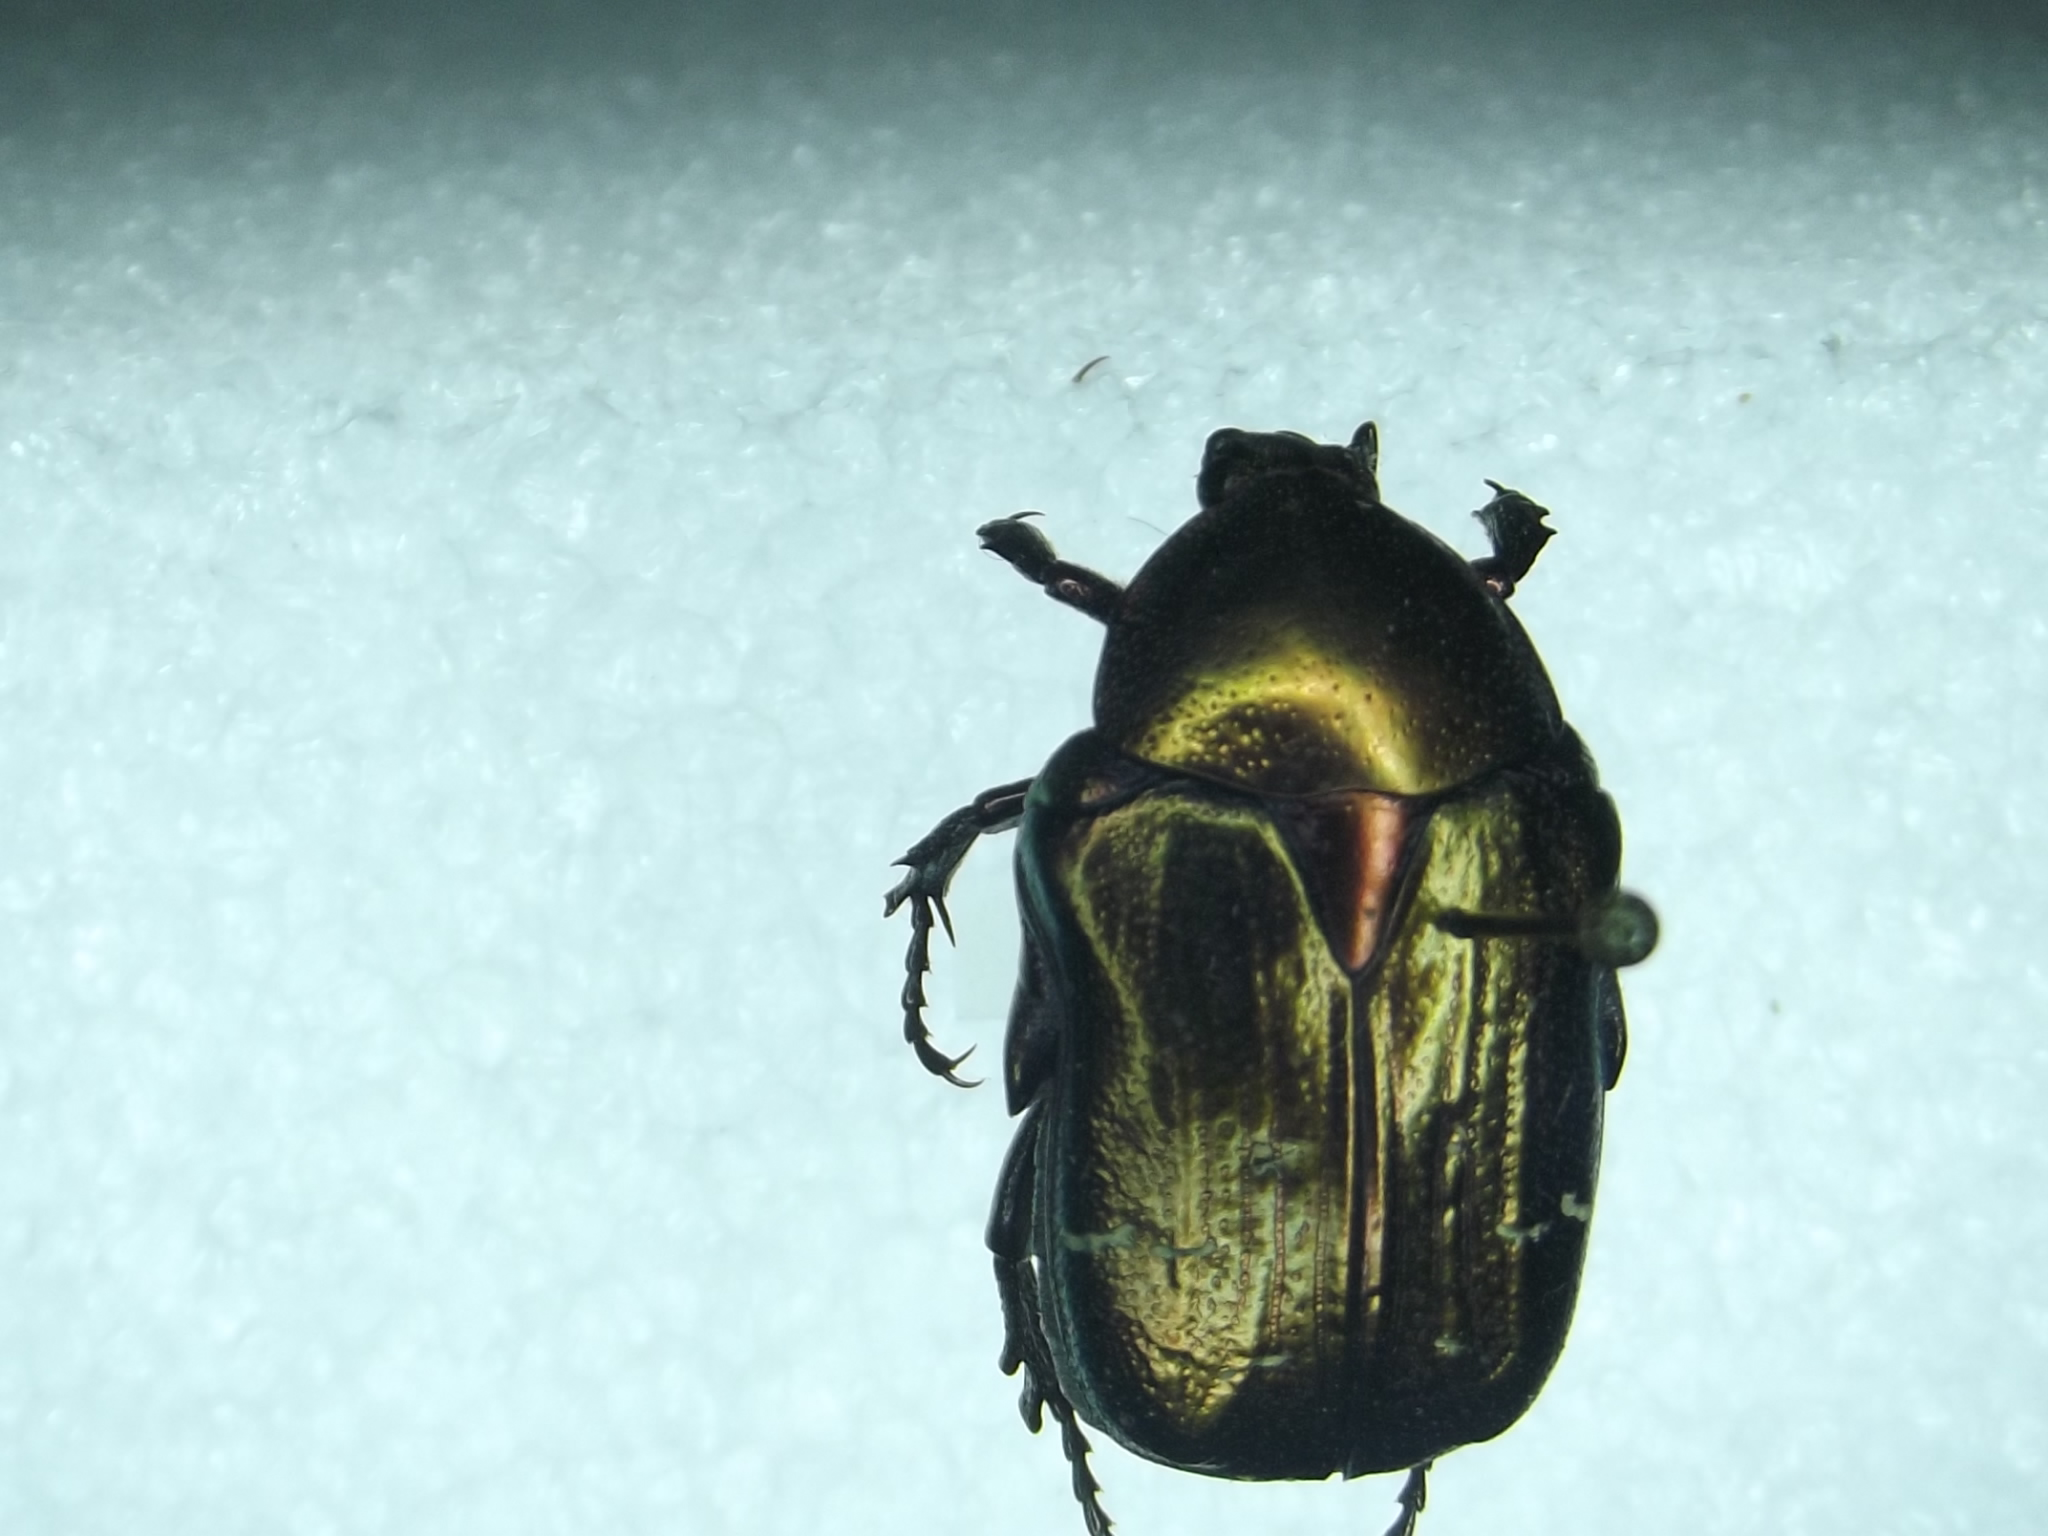Cetonia_kemali: (880, 415, 1679, 1536)
